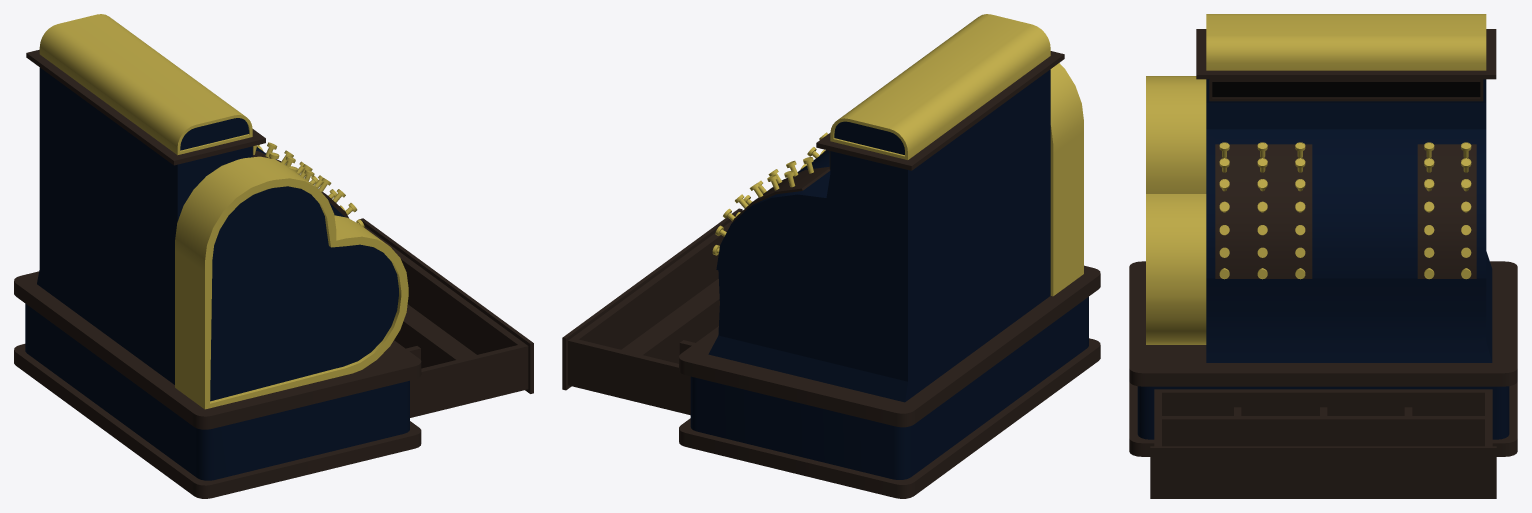
The model's file is F_Cashbox.fbx.
3 renders of one model, left to right at view 1: azimuth 30°, elevation 25°; view 2: azimuth 150°, elevation 25°; view 3: azimuth 270°, elevation 25°, orthographic. The views are drawn at different scales.
Visible parts, largest first — view 1: F_Cashbox.004; view 2: F_Cashbox.004; view 3: F_Cashbox.004.
Part boxes in pixels (<box>): F_Cashbox.004: <box>14,14,533,498</box>; F_Cashbox.004: <box>562,14,1100,498</box>; F_Cashbox.004: <box>1129,14,1517,498</box>.
Bounding box in the file's own units: 48.84 × 46.22 × 47.08.
